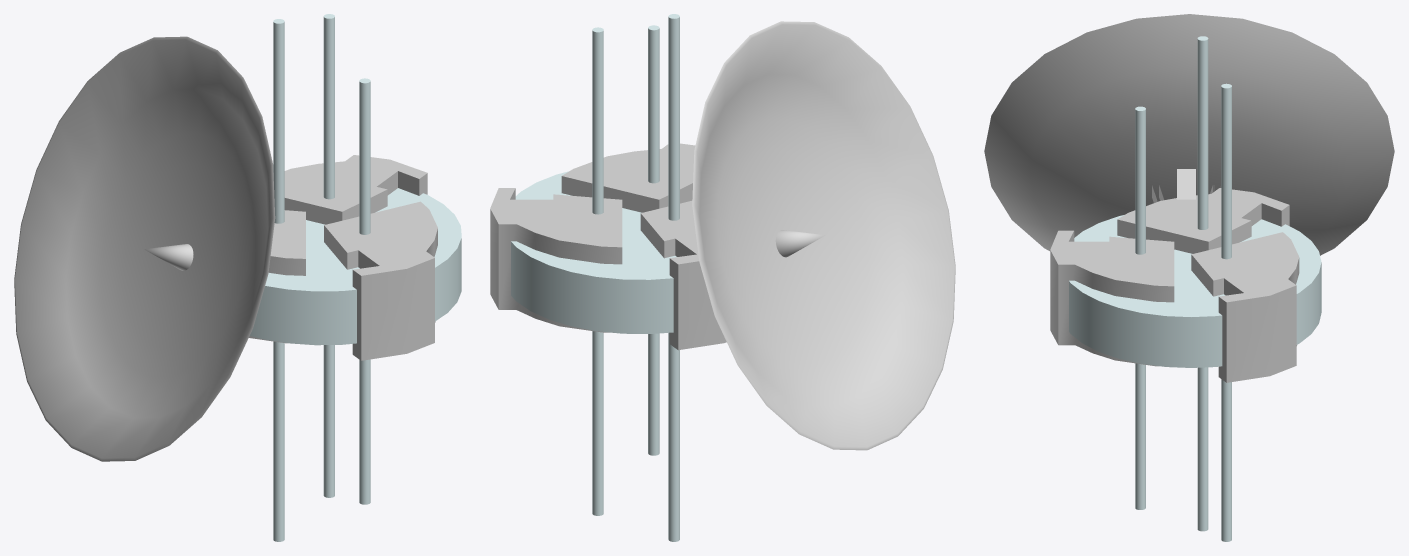
The model's file is Pirate Radar Station model.dae.
3 renders of one model, left to right at view 1: azimuth 30°, elevation 25°; view 2: azimuth 150°, elevation 25°; view 3: azimuth 270°, elevation 25°, orthographic. The views are drawn at different scales.
Parts seen in each view (by area): view 1: Polygon_Mesh (×8); view 2: Polygon_Mesh (×8); view 3: Polygon_Mesh (×8).
Boxes of the visible parts, box(x1,y1,x2,y2) form: Polygon_Mesh (×8): box(14, 14, 461, 541); Polygon_Mesh (×8): box(490, 14, 955, 541); Polygon_Mesh (×8): box(984, 14, 1394, 541).
Size of the model in its own units: 514 by 677 by 513.
